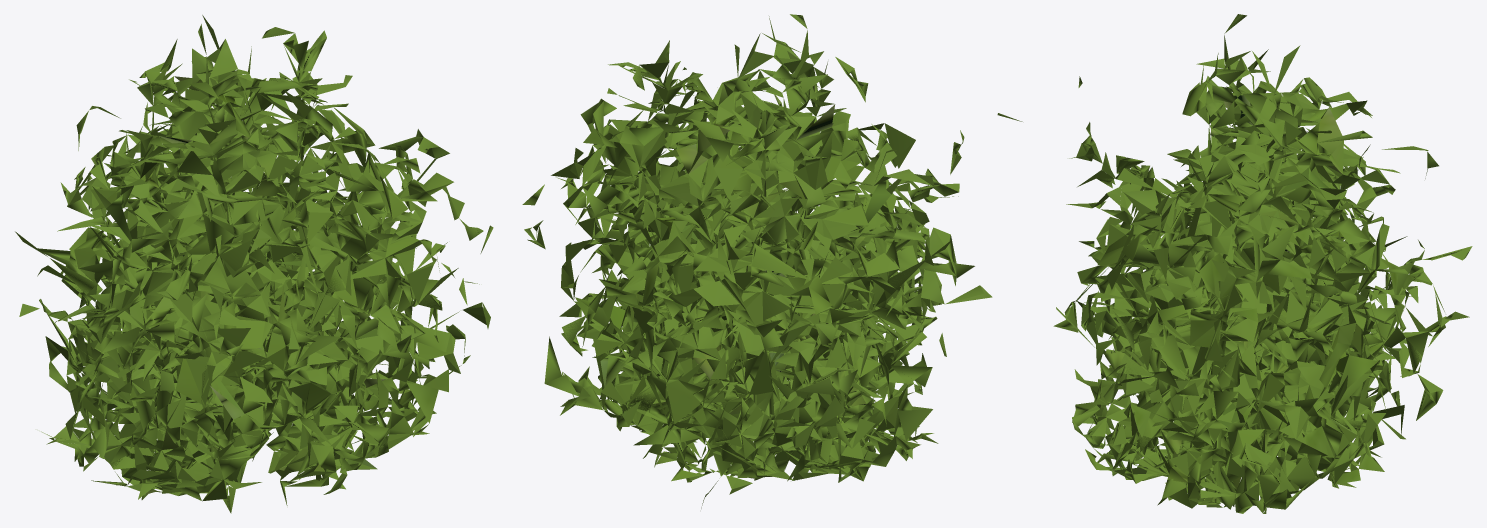
Rendered from getkong-blume4.glb.
3 renders of one model, left to right at view 1: azimuth 30°, elevation 25°; view 2: azimuth 150°, elevation 25°; view 3: azimuth 270°, elevation 25°, orthographic. The views are drawn at different scales.
Visible parts, largest first — view 1: output_unwrapped; view 2: output_unwrapped; view 3: output_unwrapped.
Boxes of the visible parts, box(x1,y1,x2,y2) form: output_unwrapped: box(15, 15, 493, 513); output_unwrapped: box(522, 14, 1022, 508); output_unwrapped: box(1053, 14, 1472, 513).
Size of the model in its own units: 1.23 by 1.3 by 1.07.
Materials: 1 (1 with a texture image).
